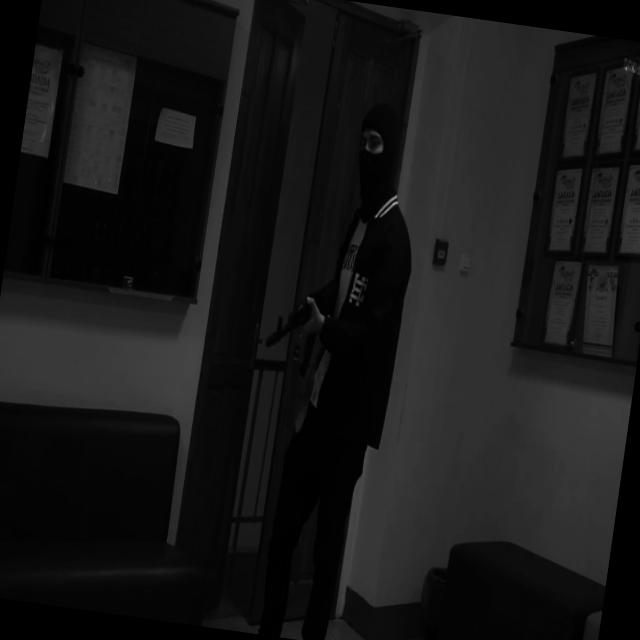gun: (260, 270, 344, 382)
person with a gun: (223, 90, 433, 640)
